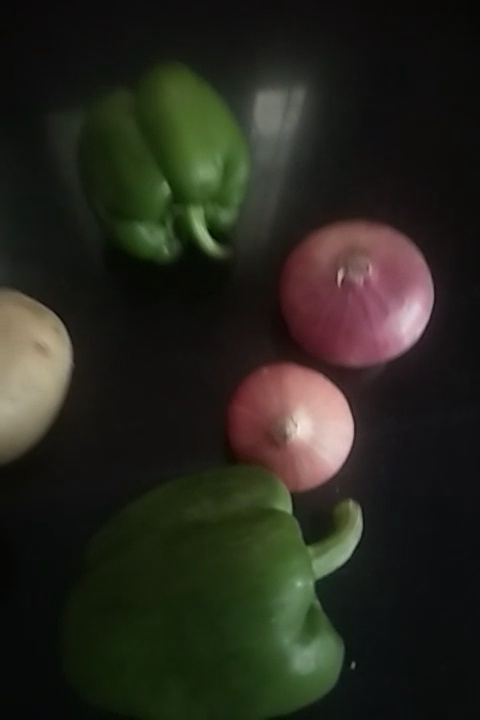capsicum: (59, 478, 369, 709), (75, 64, 244, 274)
onion: (285, 228, 433, 366), (230, 357, 351, 494)
potato: (1, 289, 79, 457)
